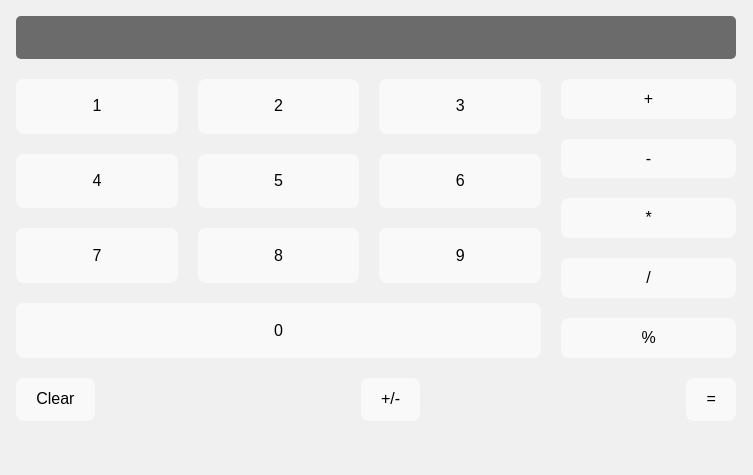
Test case: Calculator component › performs addition operation
Click the button "1". click: (97, 106)
box: [16,79,178,134]
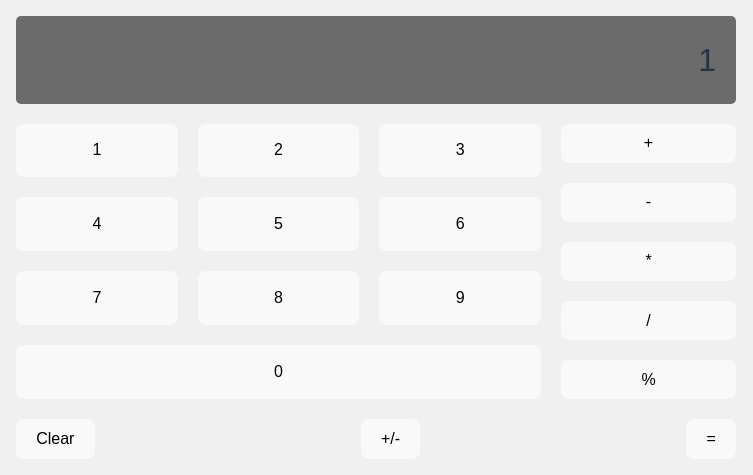
Click the button "+". click: (648, 143)
box: [561,124,736,163]
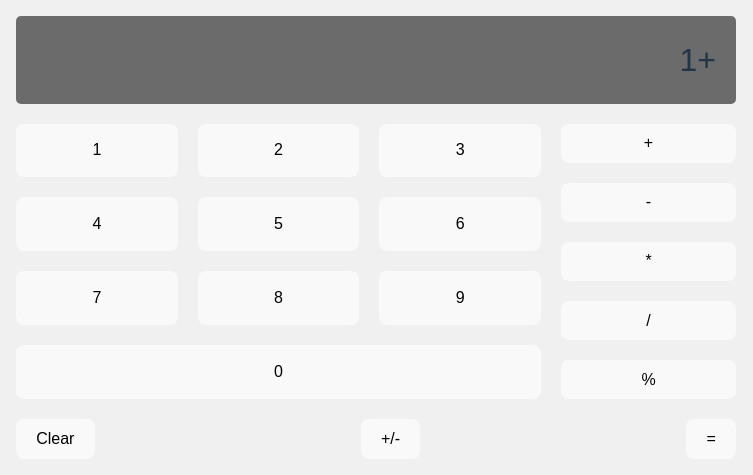
Click the button "2". click: (279, 150)
box: [198,124,359,178]
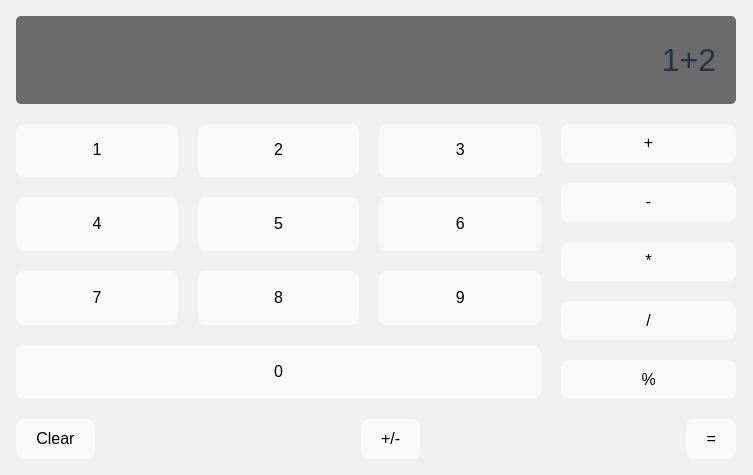
Click the button "=". click: (711, 439)
box: [686,419,736,459]
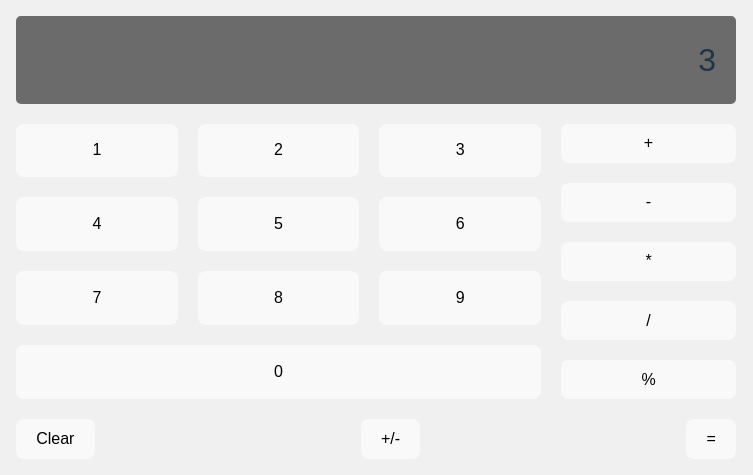
Now the text with test id "result" reads "3", box [698,42,716,78]
